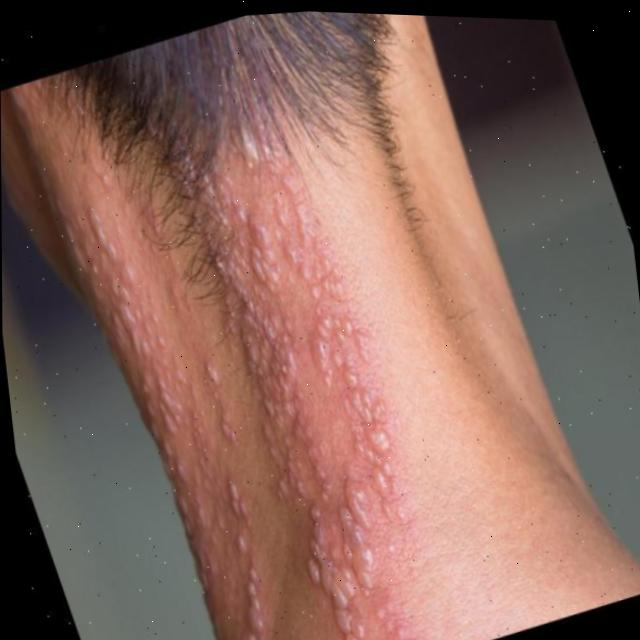Shingles: (77, 112, 434, 640)
